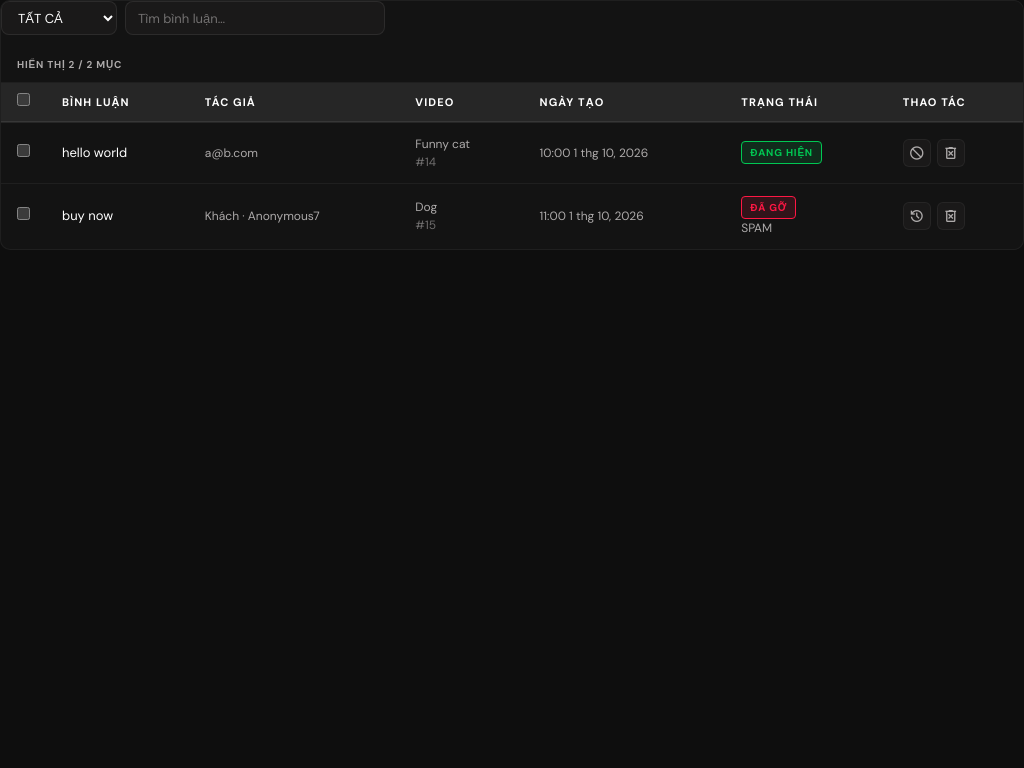
AdminCommentTable › restore does nothing when confirm is cancelled
Expected: the text "buy now" is shown, [62, 207, 113, 224]
Click the button titled "Khôi phục".
click(917, 216)  # box [903, 202, 931, 230]
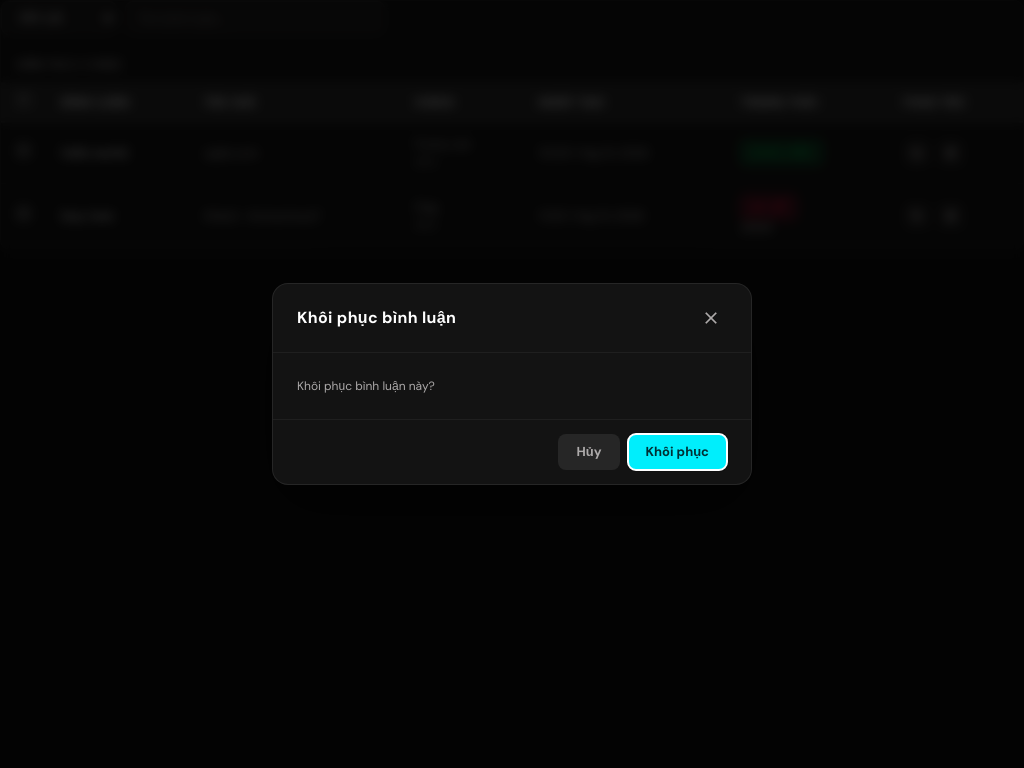
Click the button "Hủy".
click(589, 452)  # box [558, 434, 620, 470]
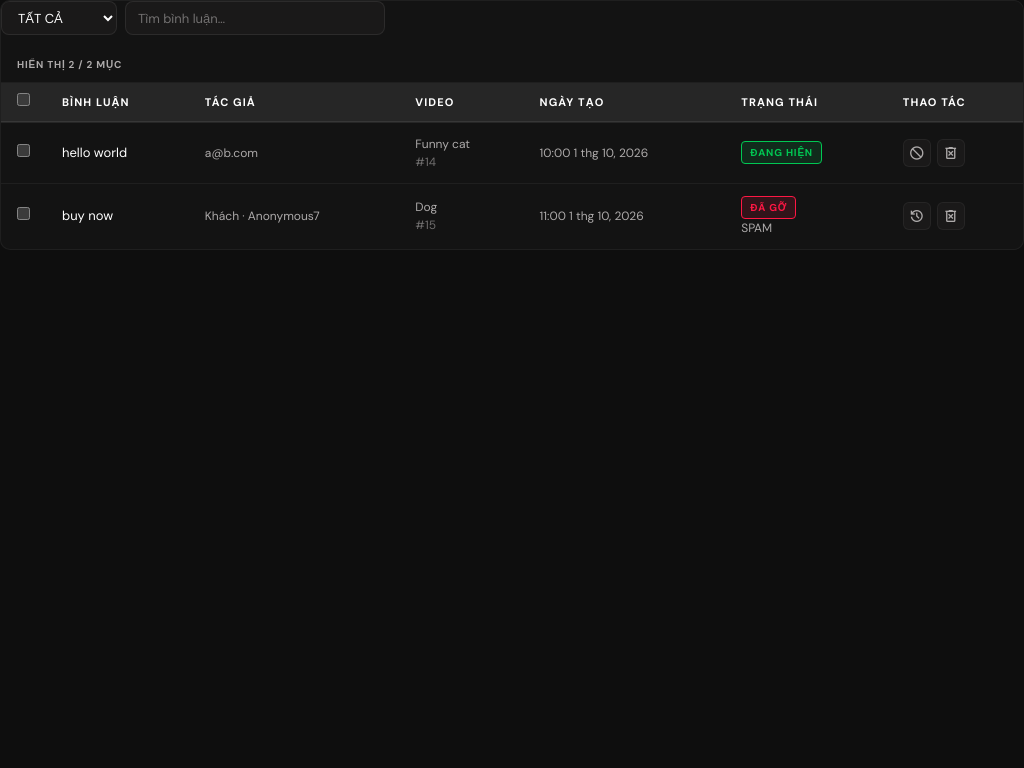
Expected: the dialog is gone
